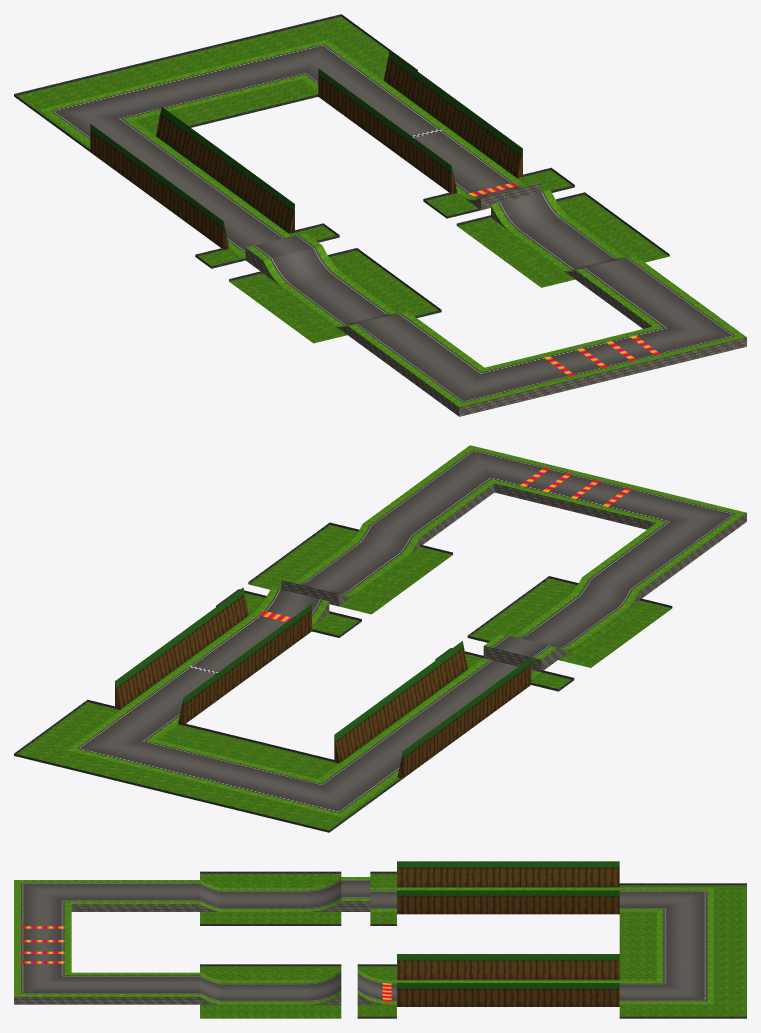
3 views of the same model, one above another, from view 1: azimuth 30°, elevation 25°; view 2: azimuth 150°, elevation 25°; view 3: azimuth 270°, elevation 25° (orthographic). The views are drawn at different scales.
Visible parts, largest first — view 1: isle-loop-SKP--_00_000_2.001, isle-loop-SKP--_03_004_2.001, isle-loop-SKP--_0C_001_2.001, isle-loop-SKP--_03_004.001, isle-loop-SKP--_0C_001.001, isle-loop-SKP--_0C_002.001, isle-loop-SKP--_06_000.001; view 2: isle-loop-SKP--_00_000_2.001, isle-loop-SKP--_03_004_2.001, isle-loop-SKP--_0C_001_2.001, isle-loop-SKP--_03_004.001, isle-loop-SKP--_0C_001.001, isle-loop-SKP--_0C_002.001, isle-loop-SKP--_06_000.001; view 3: isle-loop-SKP--_00_000_2.001, isle-loop-SKP--_0C_001_2.001, isle-loop-SKP--_03_004_2.001, isle-loop-SKP--_03_004.001, isle-loop-SKP--_0C_001.001, isle-loop-SKP--_0C_002.001, isle-loop-SKP--_06_000.001.
Boxes of the visible parts, x1,y1,x2,y2 form: isle-loop-SKP--_00_000_2.001: (51,44,734,402); isle-loop-SKP--_03_004_2.001: (16,16,668,343); isle-loop-SKP--_0C_001_2.001: (90,51,522,249); isle-loop-SKP--_03_004.001: (39,39,746,407); isle-loop-SKP--_0C_001.001: (245,183,746,416); isle-loop-SKP--_0C_002.001: (14,14,669,317); isle-loop-SKP--_06_000.001: (468,182,660,376); isle-loop-SKP--_00_000_2.001: (77,450,735,812); isle-loop-SKP--_03_004_2.001: (16,525,671,830); isle-loop-SKP--_0C_001_2.001: (115,587,531,778); isle-loop-SKP--_03_004.001: (66,445,746,817); isle-loop-SKP--_0C_001.001: (281,483,746,671); isle-loop-SKP--_0C_002.001: (14,522,672,832); isle-loop-SKP--_06_000.001: (259,467,632,621); isle-loop-SKP--_00_000_2.001: (21,880,707,1001); isle-loop-SKP--_0C_001_2.001: (397,861,619,1006); isle-loop-SKP--_03_004_2.001: (200,873,746,1018); isle-loop-SKP--_03_004.001: (14,877,713,1004); isle-loop-SKP--_0C_001.001: (14,901,387,1004); isle-loop-SKP--_0C_002.001: (200,871,746,1018); isle-loop-SKP--_06_000.001: (21,926,391,1001).
Size of what is drawn, in the model's own units: 31247 by 2400 by 66834.
Materials: 8 (8 with a texture image).
